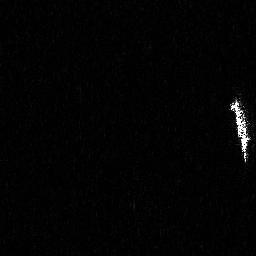ship: (228, 92, 254, 165)
